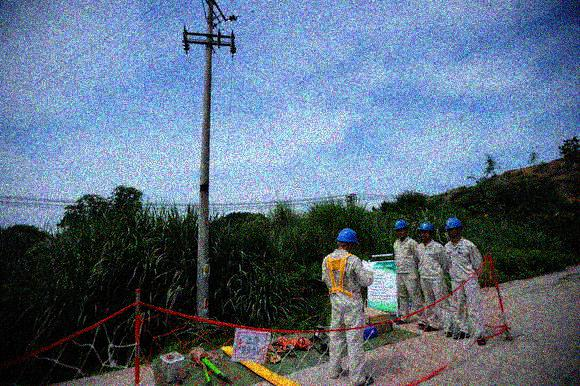helmet: (334, 227, 361, 255), (444, 218, 463, 240), (416, 222, 434, 244), (392, 218, 408, 238)
